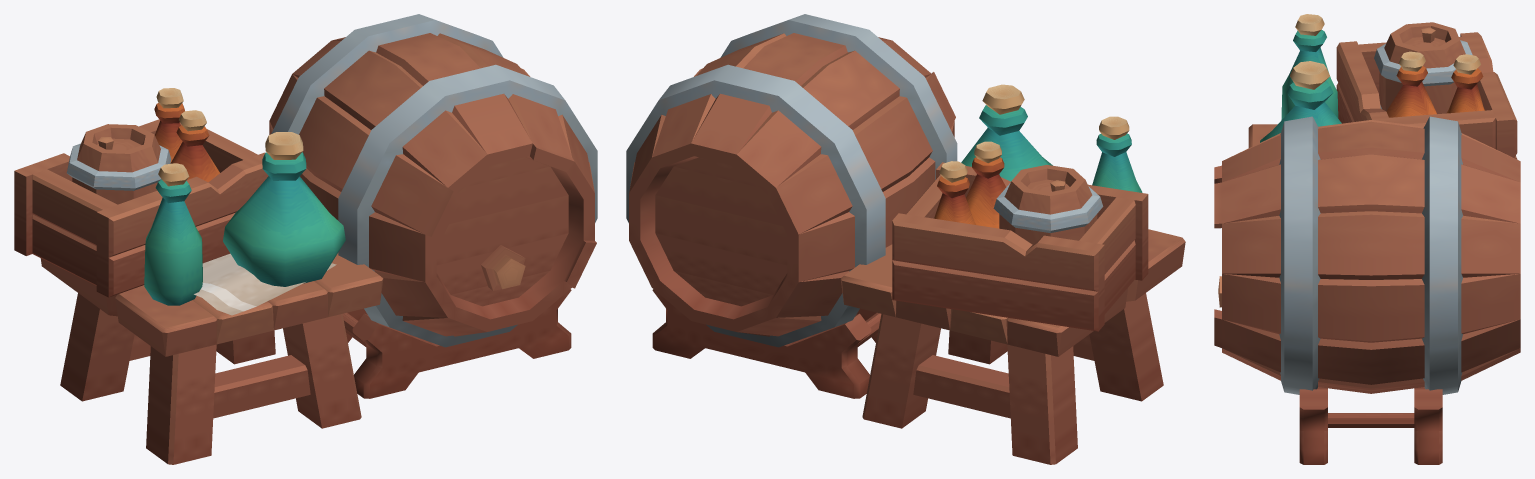
The model's file is keg_decorated.glb.
3 views of the same model, side by side, from view 1: azimuth 30°, elevation 25°; view 2: azimuth 150°, elevation 25°; view 3: azimuth 270°, elevation 25° (orthographic). The views are drawn at different scales.
Parts seen in each view (by area): view 1: keg_decorated; view 2: keg_decorated; view 3: keg_decorated.
Boxes of the visible parts, x1,y1,x2,y2 form: keg_decorated: (14,14,597,464); keg_decorated: (626,14,1185,464); keg_decorated: (1214,14,1520,464).
Bounding box in the file's own units: 3.52 × 2.05 × 2.
1 material, 1 textured.
